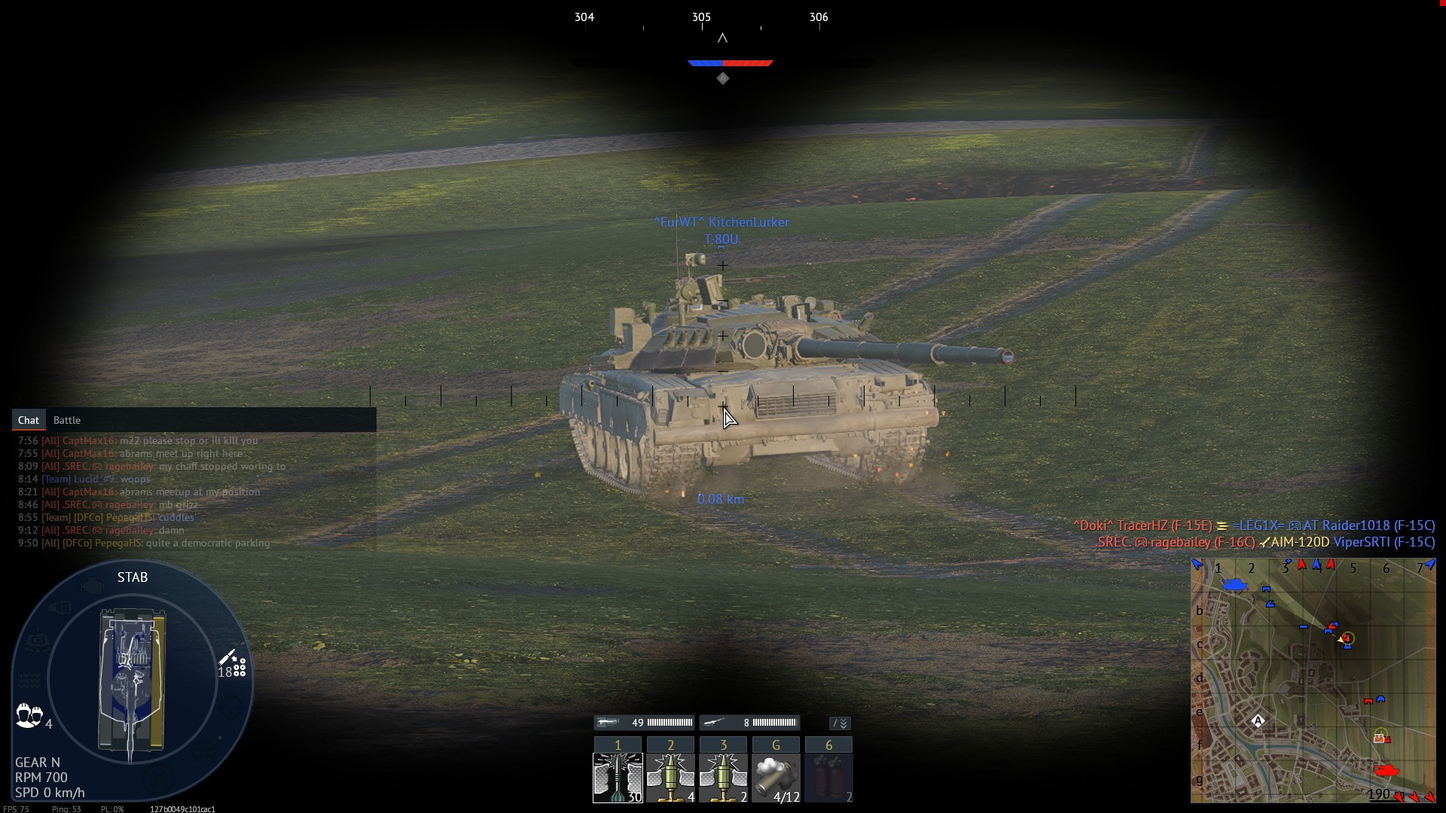t-80u: (558, 253, 1014, 501)
